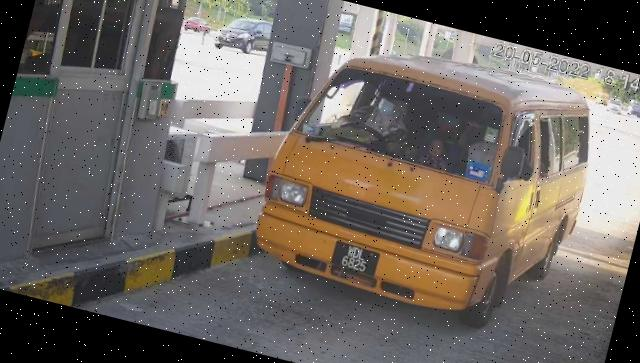License_Plate: (330, 239, 384, 281)
van: (246, 22, 608, 345)
